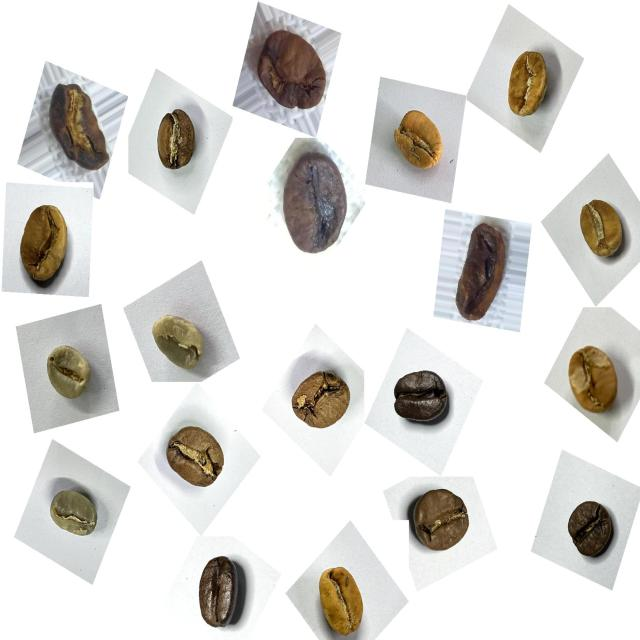bad: (269, 142, 356, 268), (246, 20, 336, 124), (444, 216, 522, 335), (44, 76, 118, 180)
dark: (183, 547, 256, 640), (387, 361, 460, 440), (557, 490, 623, 572)
green: (142, 302, 215, 384), (36, 335, 101, 415), (40, 480, 107, 554)
light: (10, 193, 84, 291), (556, 333, 630, 424), (492, 38, 561, 129), (386, 100, 456, 186), (308, 555, 377, 637), (569, 189, 636, 268)
medium: (156, 415, 235, 502), (280, 358, 359, 444), (402, 480, 479, 568), (146, 102, 208, 184)
